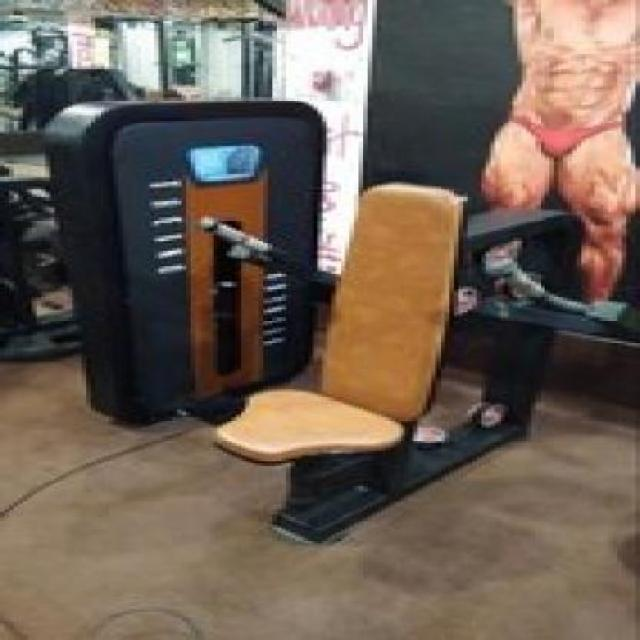seated dip machine: (51, 178, 626, 551)
